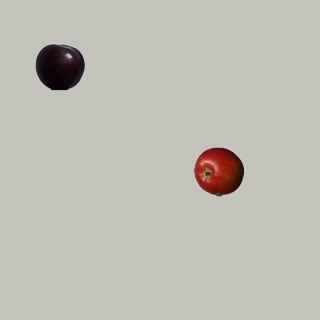Apple Braeburn: (193, 146, 243, 196)
Cherry Wax Black: (34, 41, 84, 91)
